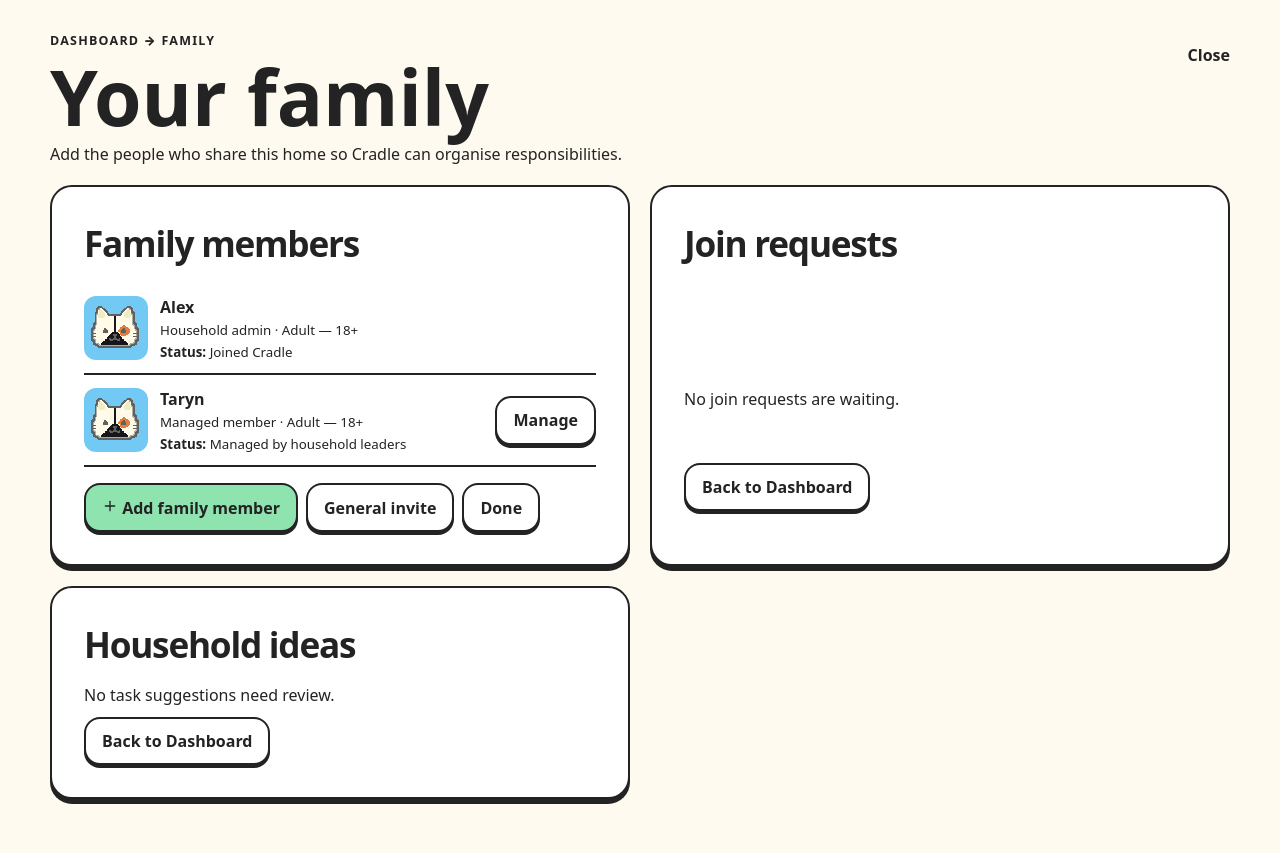
family and personal user journeys › opens an existing hidden member directly when duplicate-add detection returns its reference
Click the button "Add family member". click: (191,508)
box: [84,483,298,532]
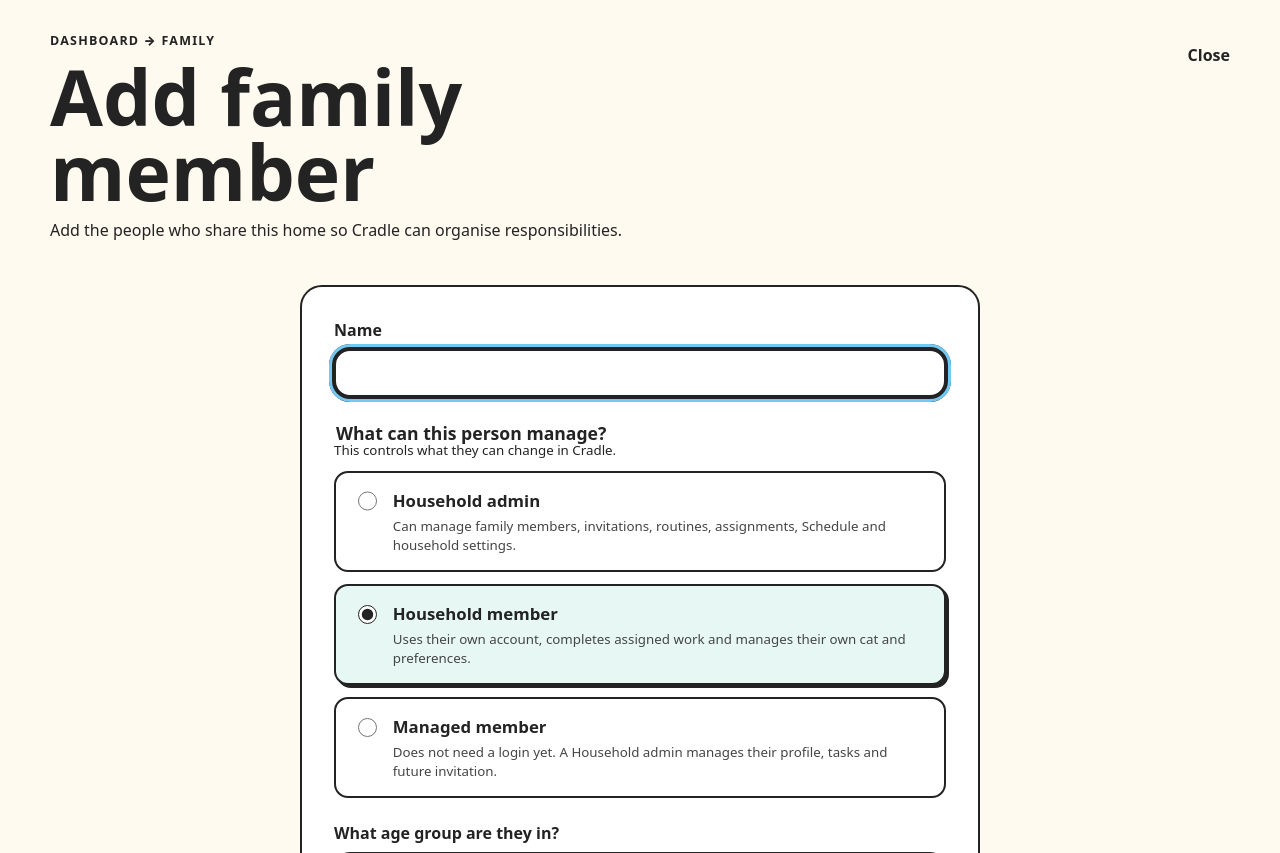
Type "Gillian" into the field labelled "Name". click: (640,373)
box: [334,349,946,397]
(page scrolled)
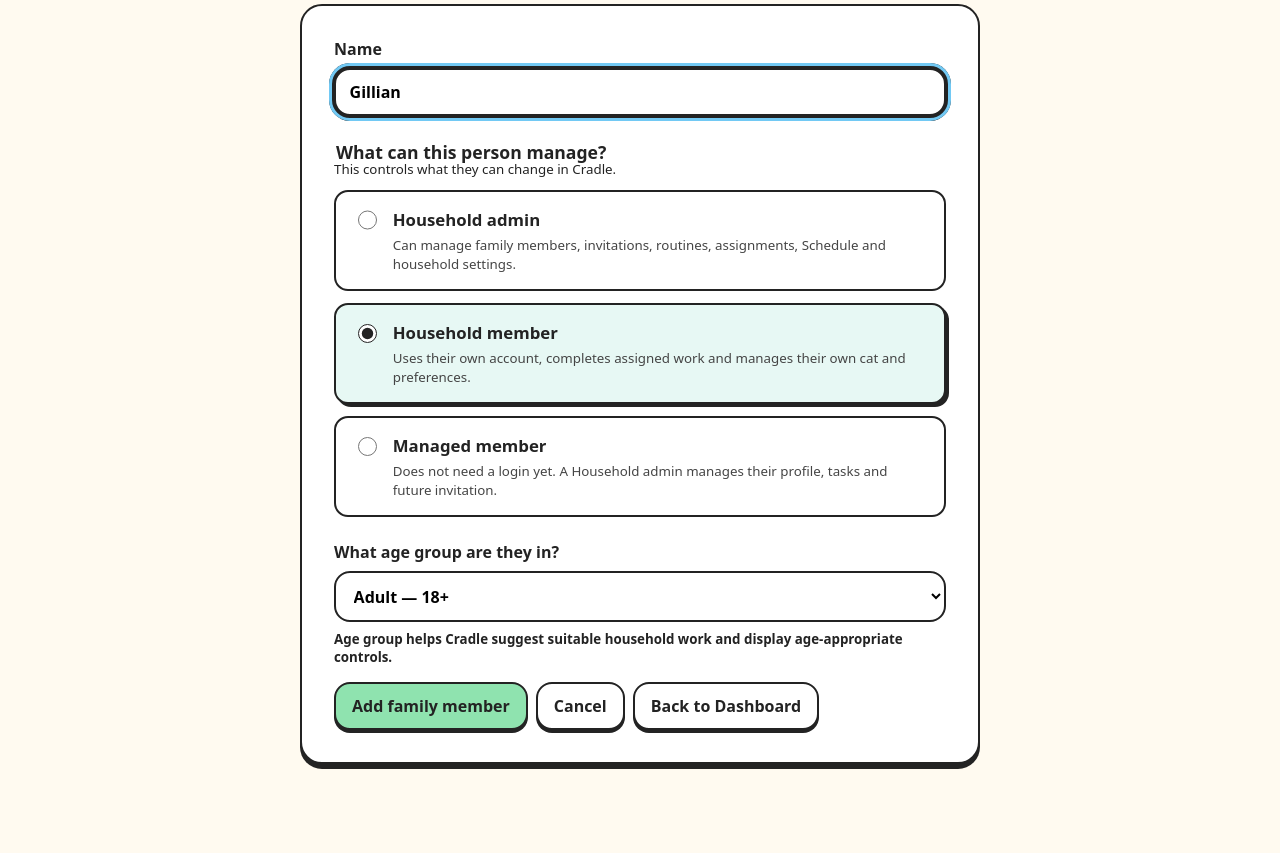
Click the button "Add family member". click: (431,706)
box: [334,682,528,730]
(page scrolled)
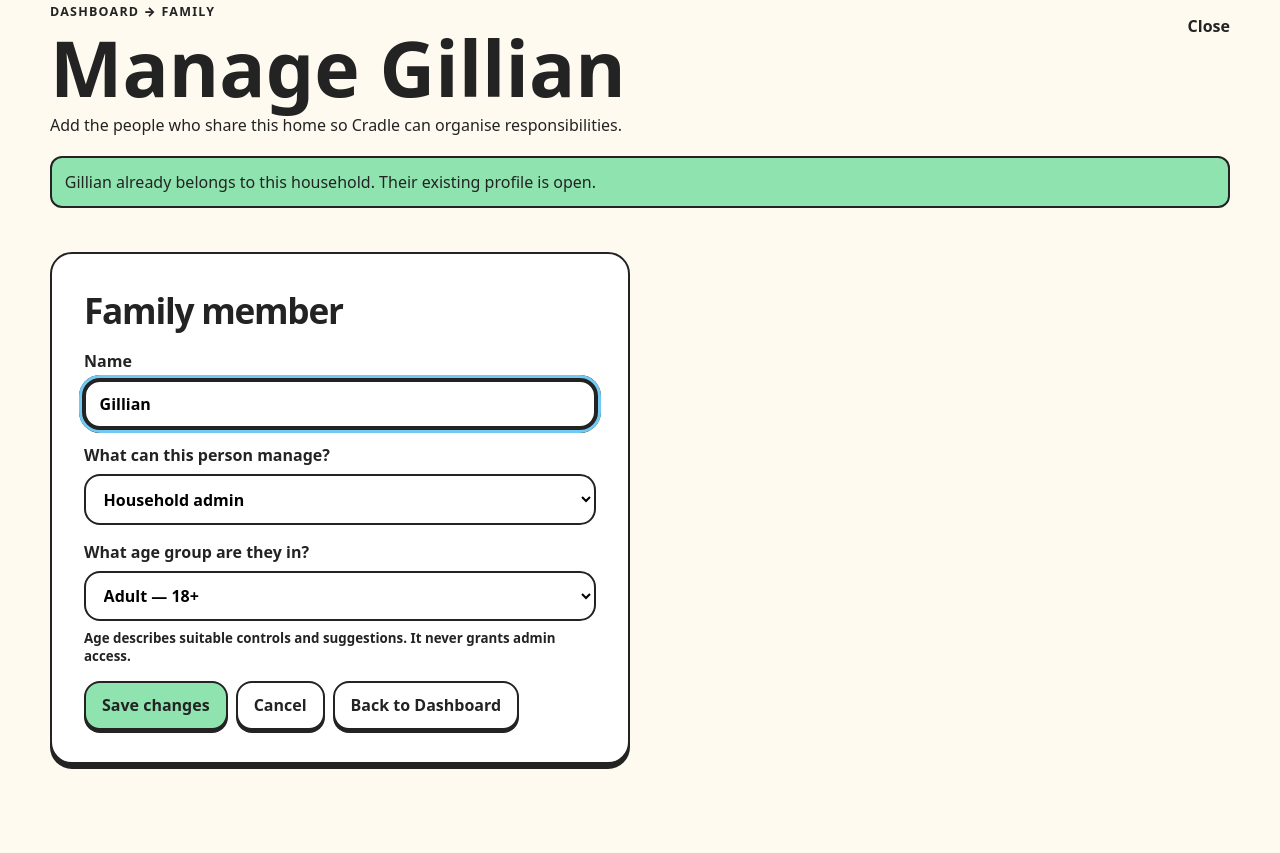
expect the field labelled "Name" holds "Gillian": met, box [84,380,596,428]
expect the heading "Manage Gillian" is shown: met, box [50,30,626,105]
expect the text "Gillian already belongs to this household. Their existing profile is open." is shown: met, box [50,156,1230,208]
